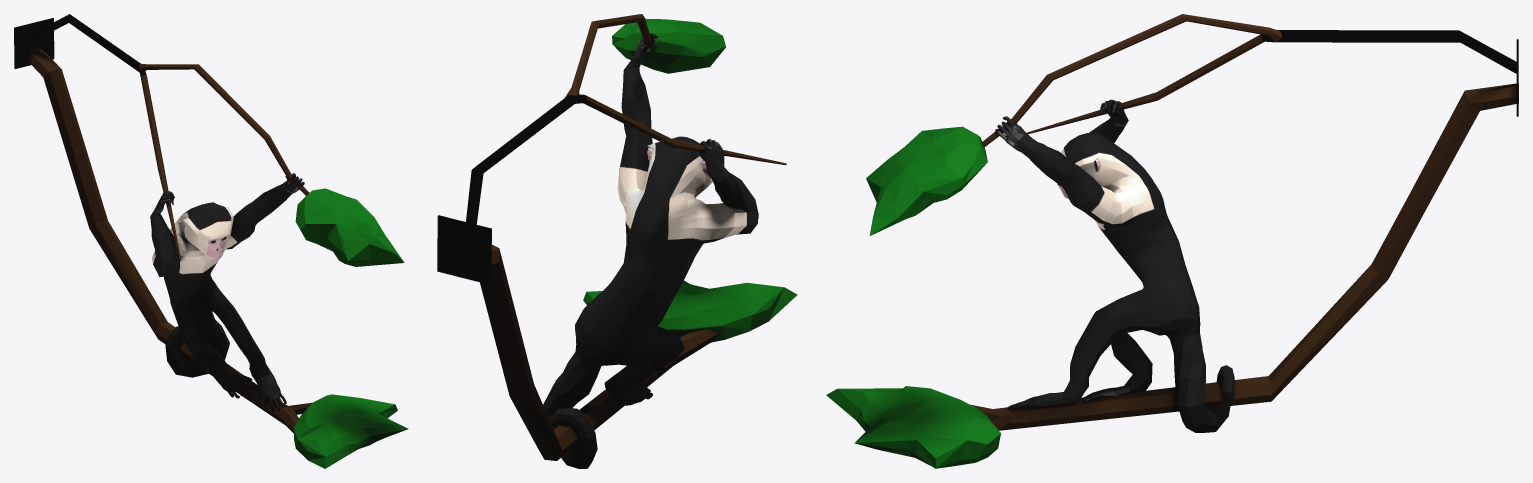
The model's file is capuchin.glb.
3 renders of one model, left to right at view 1: azimuth 30°, elevation 25°; view 2: azimuth 150°, elevation 25°; view 3: azimuth 270°, elevation 25°, orthographic. The views are drawn at different scales.
Bounding box in the file's own units: 0.5024 × 0.8342 × 1.26.
Materials: 1 (1 with a texture image).
